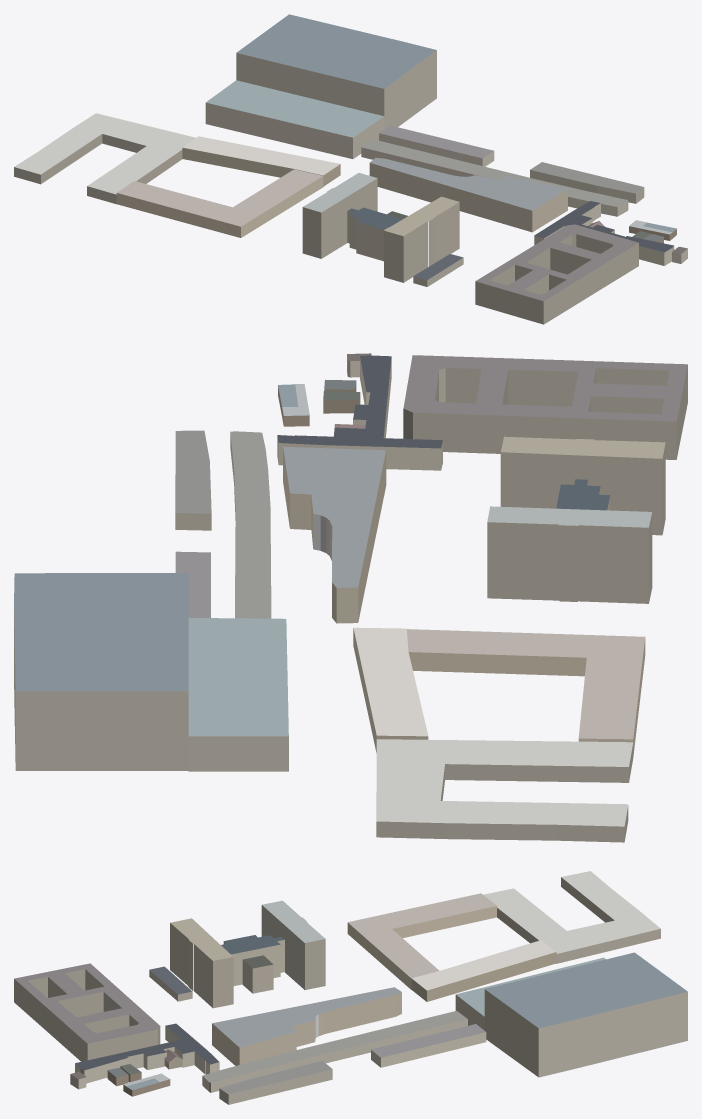
The picture shows the model from 3 angles, top to bottom: view 1: azimuth 30°, elevation 25°; view 2: azimuth 150°, elevation 25°; view 3: azimuth 270°, elevation 25°; orthographic projection. The views are drawn at different scales.
Parts seen in each view (by area): view 1: tuile; view 2: tuile; view 3: tuile.
Part boxes in pixels (left/top/right/bottom): tuile: left=14, top=14, right=687, bottom=324; tuile: left=14, top=353, right=687, bottom=842; tuile: left=14, top=871, right=687, bottom=1104.
Size of the model in its own units: 254 by 26.34 by 324.
